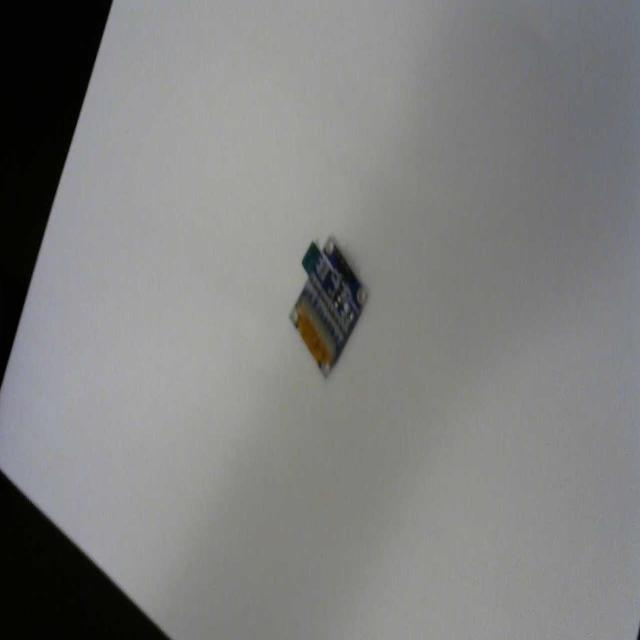oled: (289, 225, 370, 387)
